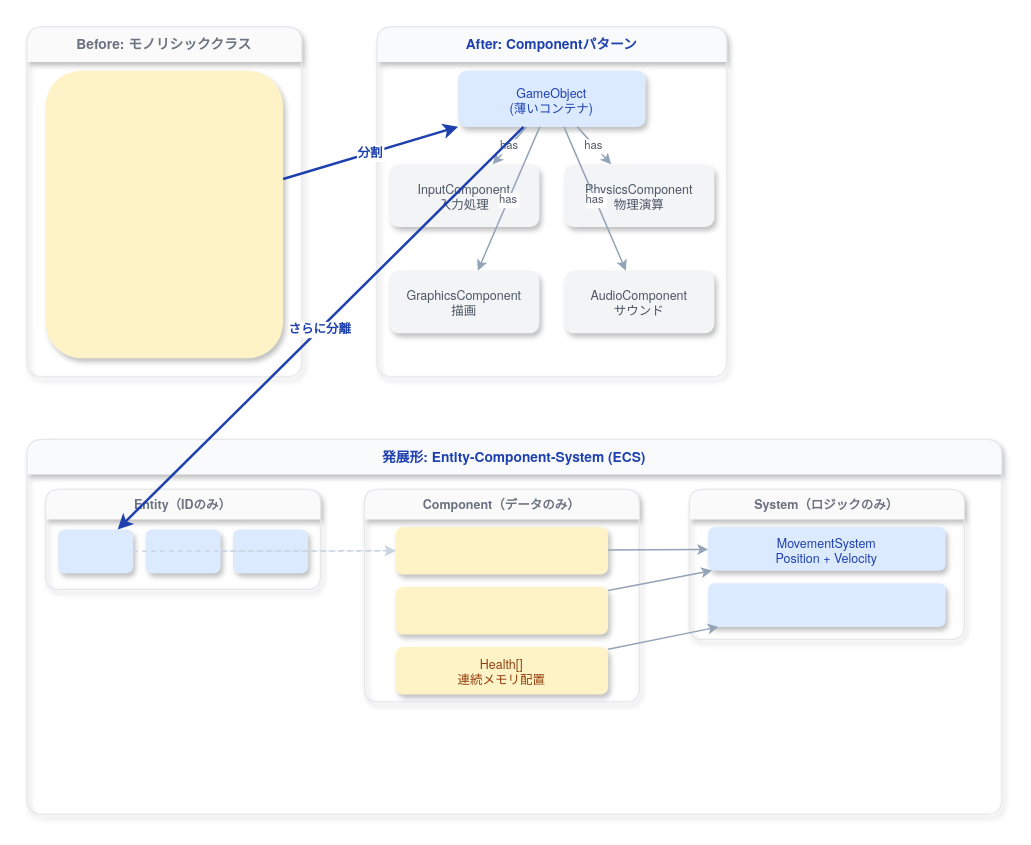
Image size: 1031x845. Some labels were removed from this diagram. The centre of each missing label's shape, as x and y in pixels:
DamageSystem Health + Collision: (x=827, y=606)
Entity 0: (x=96, y=552)
Entity 1: (x=184, y=552)
Entity 2: (x=271, y=552)
PlayerCharacter ━━━━━━━━━━━━━━ 入力処理 物理演算 描画 サウンド AI ━━━━━━━━━━━━━━ 5000行の巨大クラス: (x=165, y=215)
Position[] 連続メモリ配置: (x=502, y=551)
Velocity[] 連続メモリ配置: (x=502, y=611)
